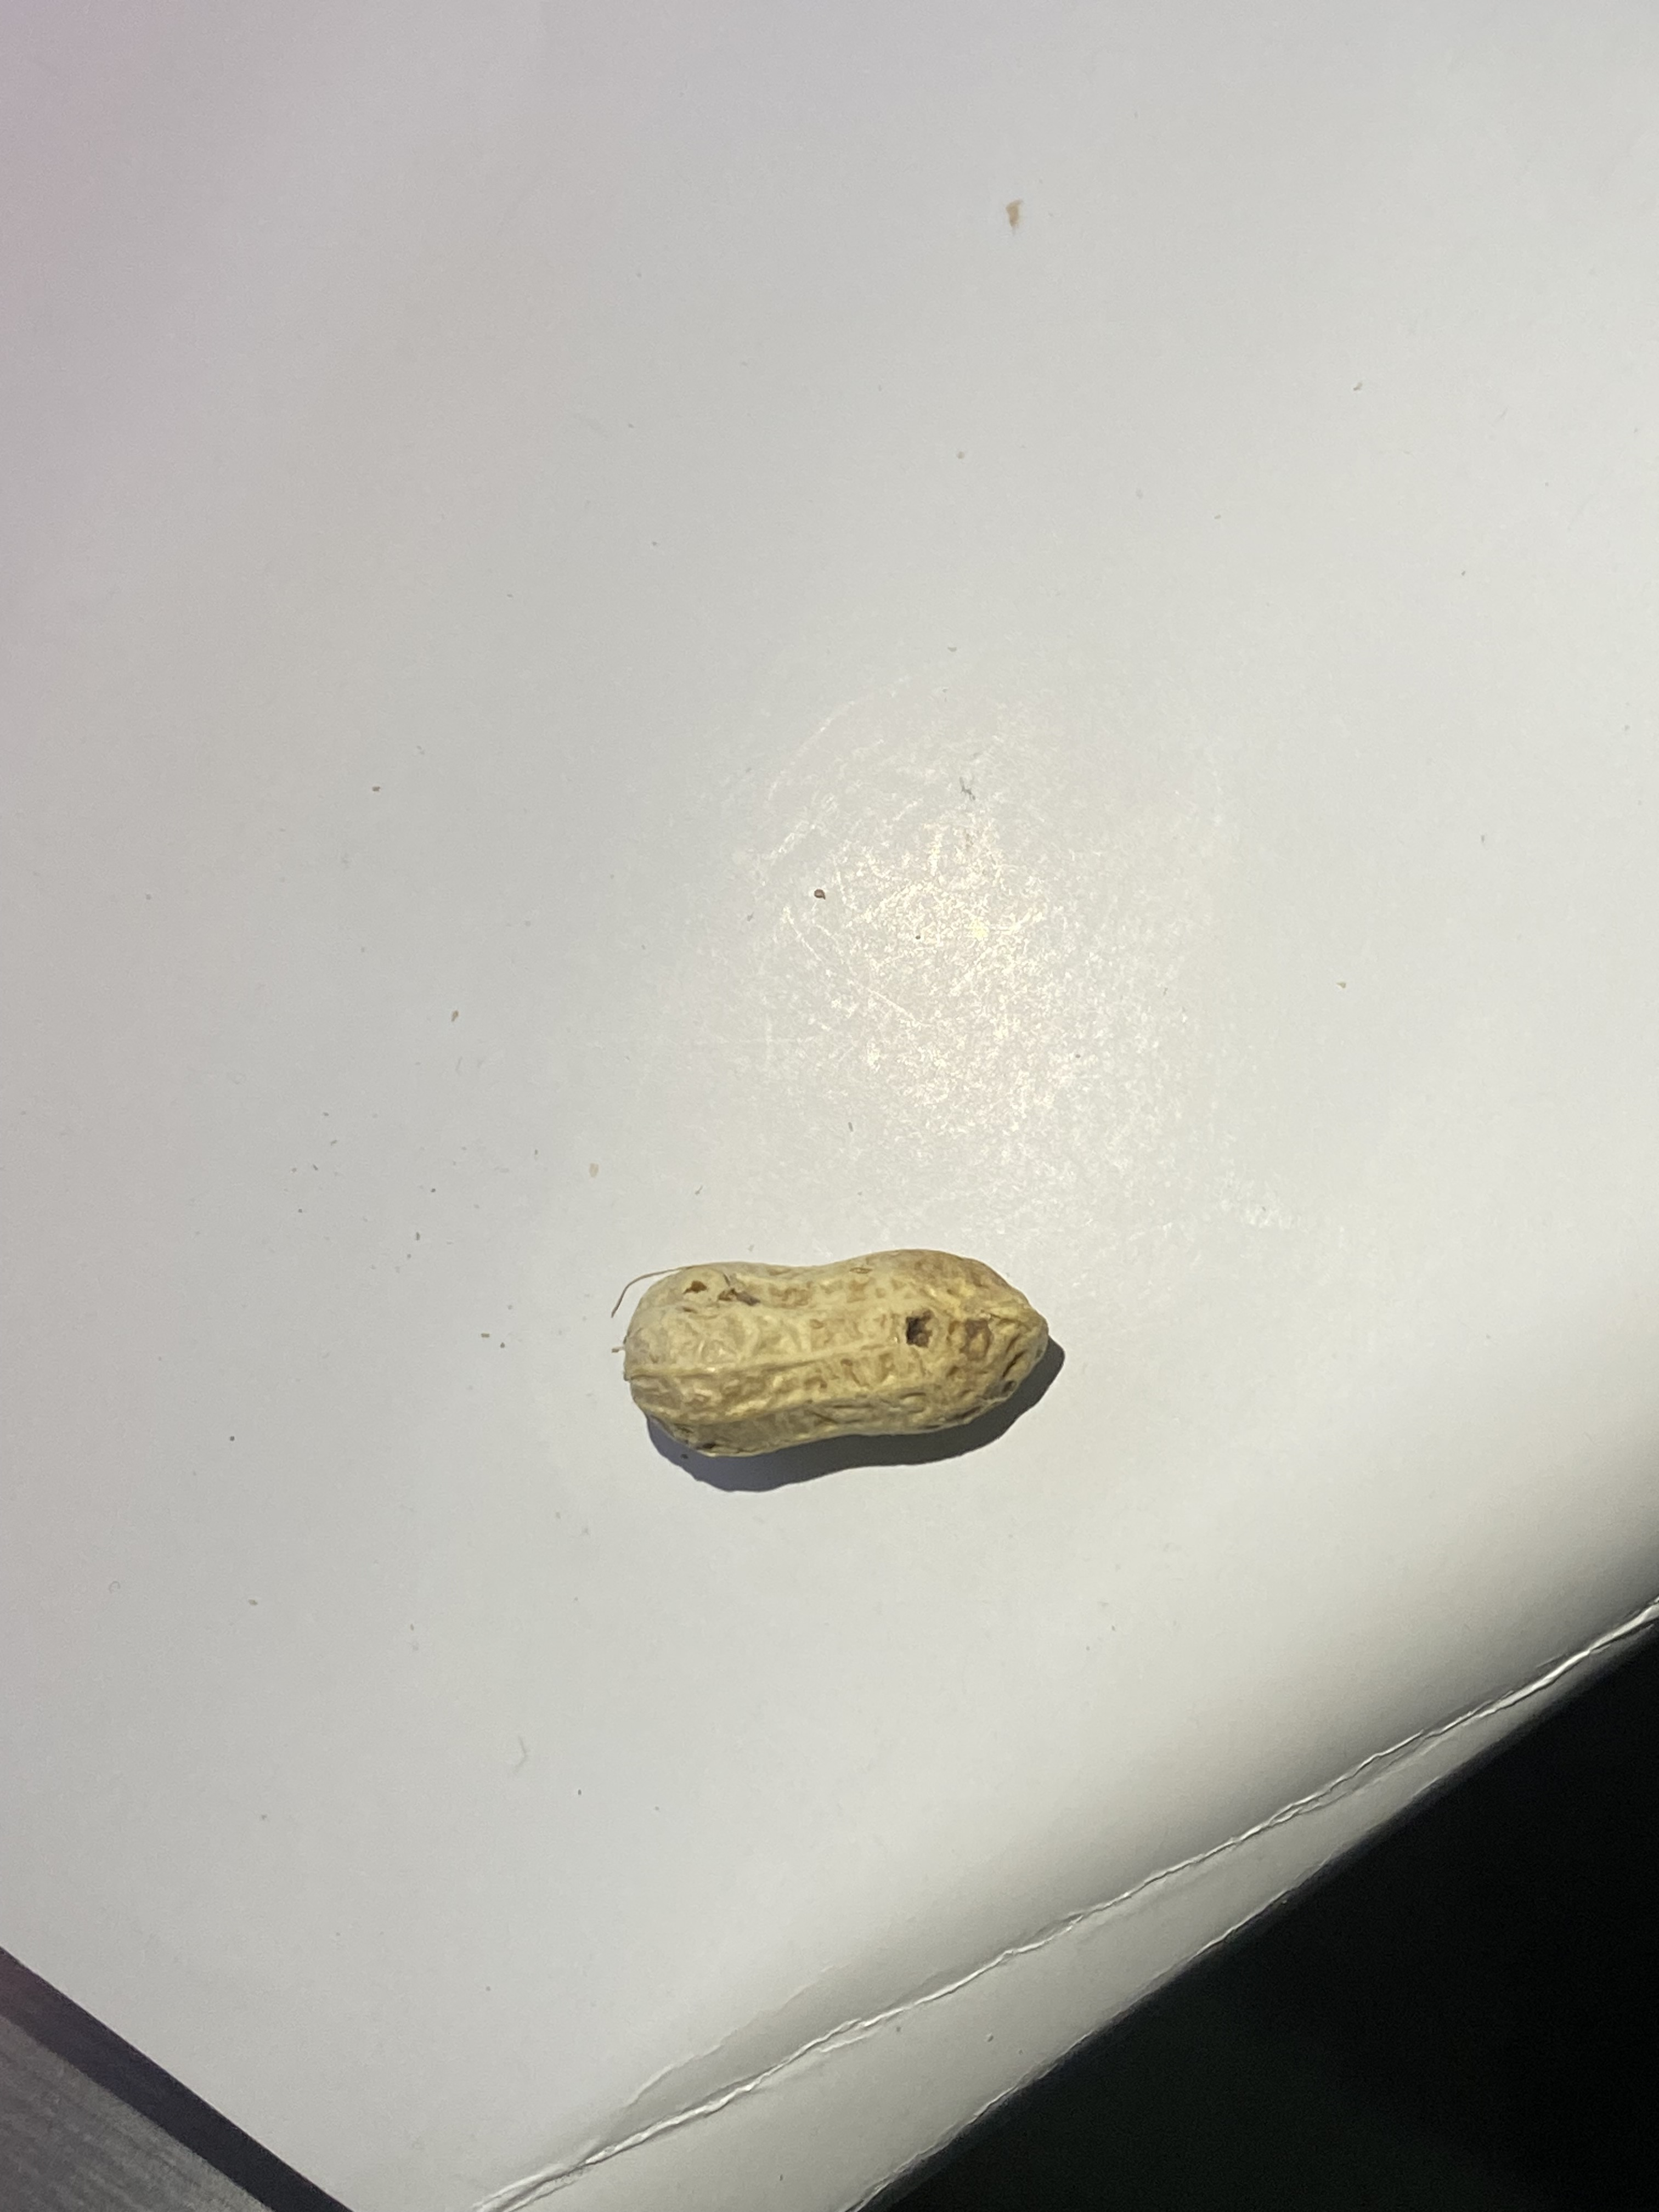kacang2: (570, 1237, 1094, 1484)
